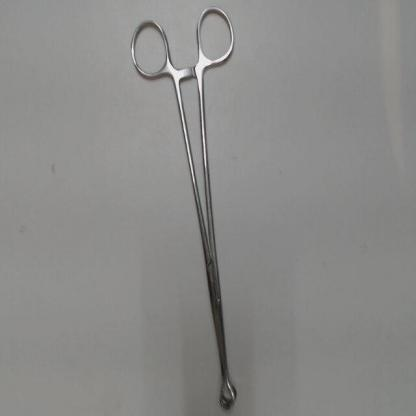8 Babcock Tissue Forceps: (122, 1, 243, 413)
